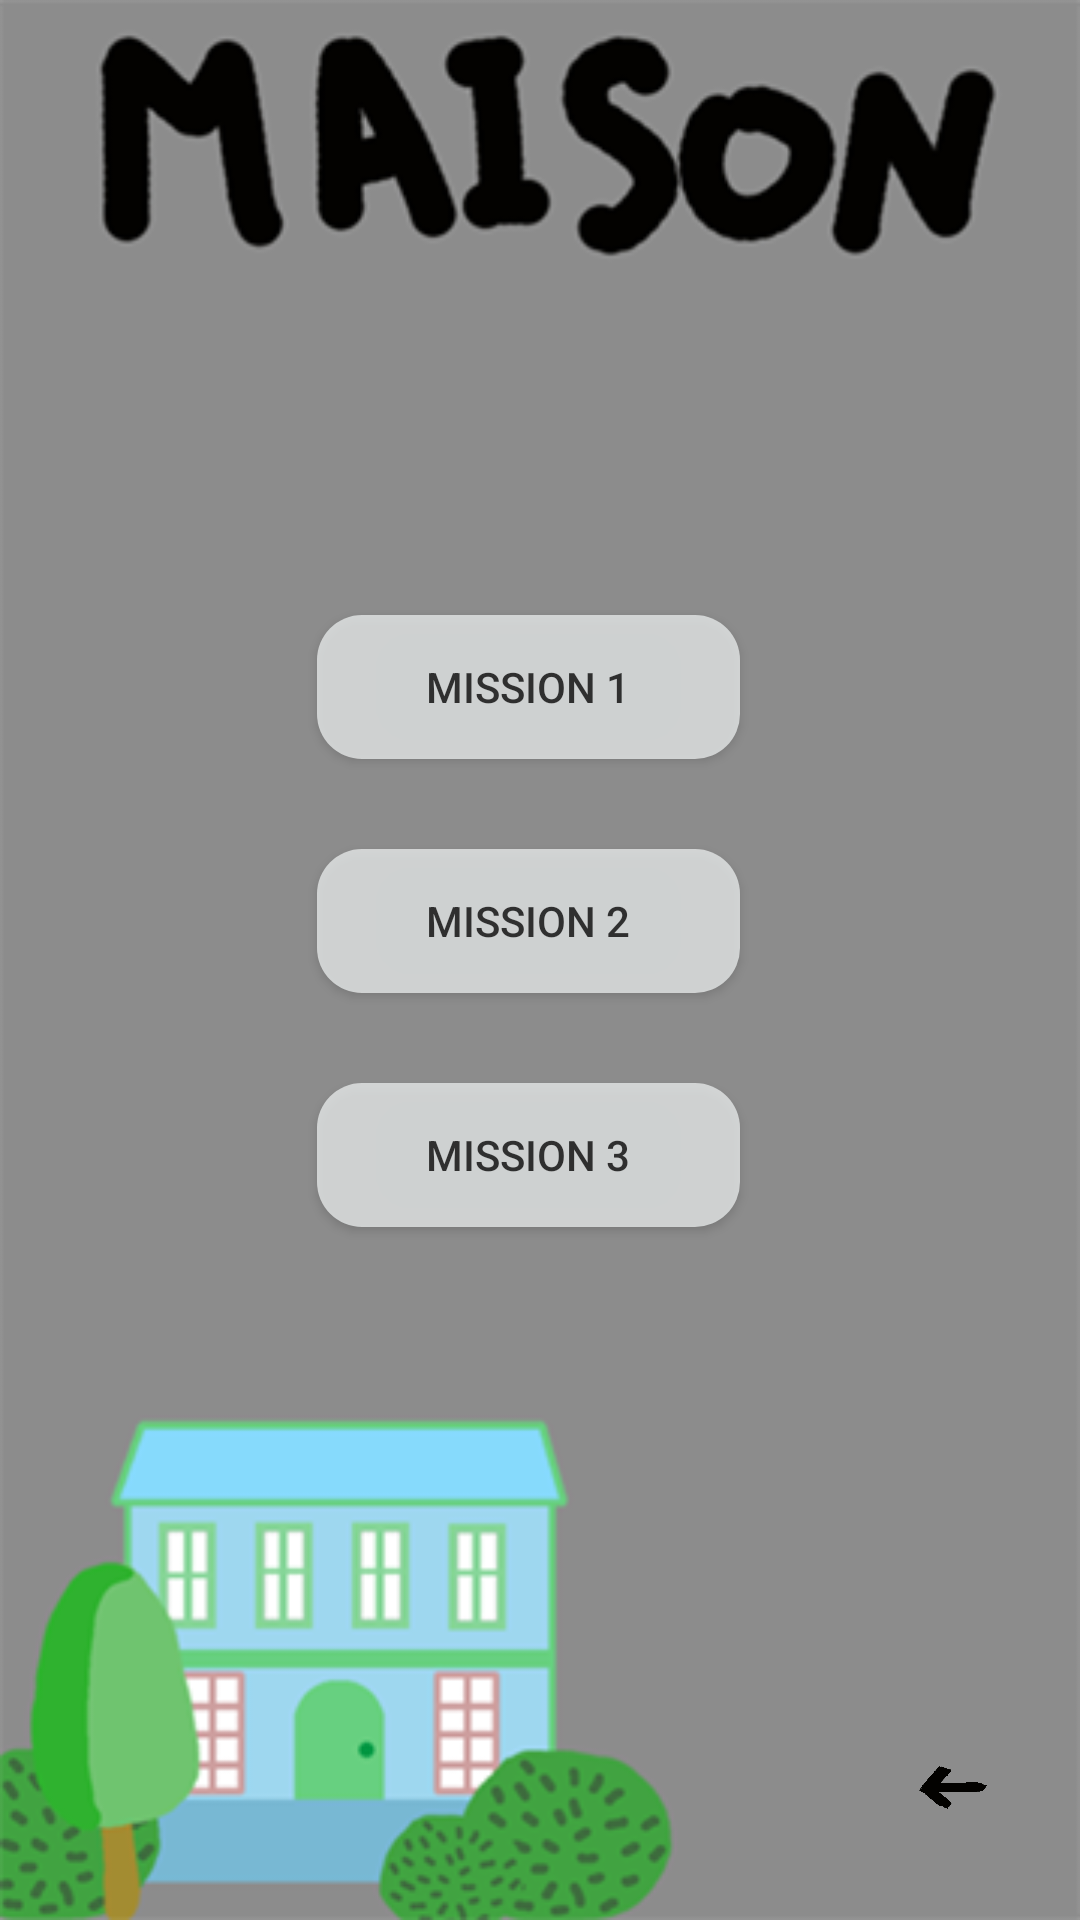

Icon click points for this 1080*1920 phone screenshot, format (x,y):
retour: (953,1787)
